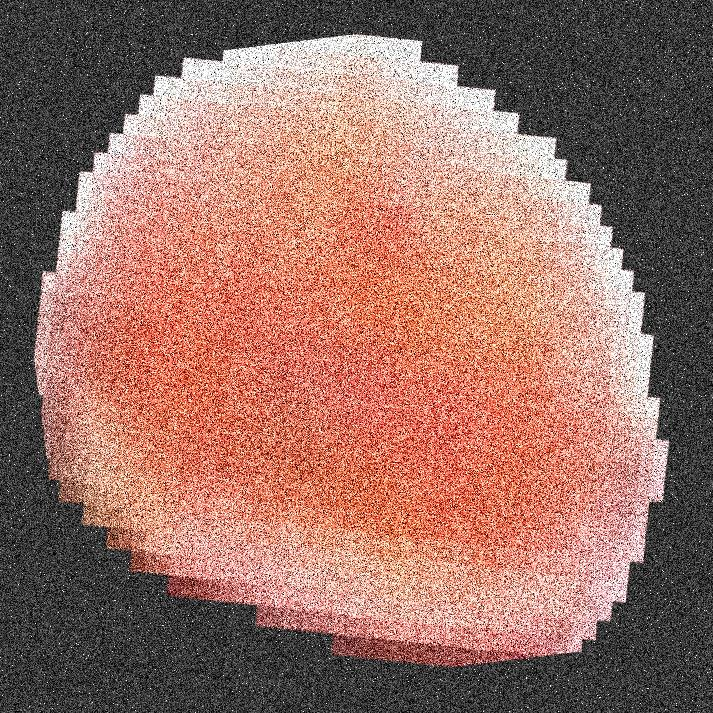Capacete: (156, 0, 595, 712)
